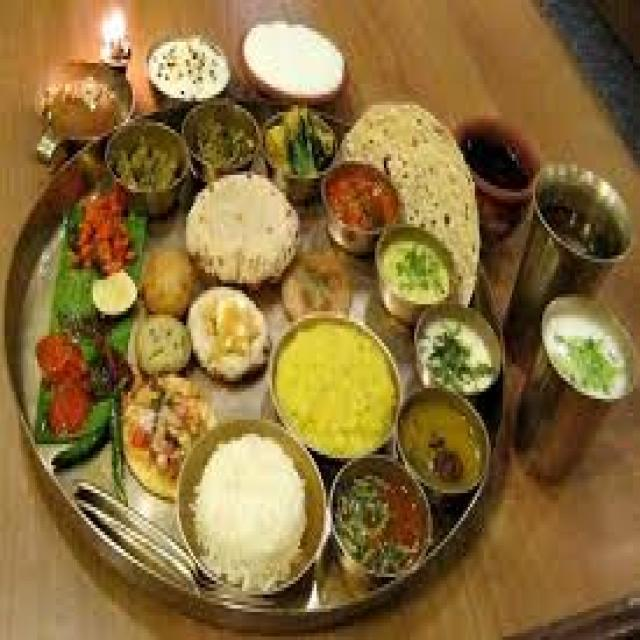curd: (533, 280, 640, 420), (243, 17, 345, 105)
dal: (277, 321, 402, 454), (395, 393, 494, 492)
papad: (189, 172, 299, 284)
pickle: (61, 187, 146, 282), (34, 355, 99, 449)
raita: (532, 278, 640, 415)
sambar-rasam: (321, 161, 403, 246)
sweet: (120, 382, 184, 486), (34, 361, 102, 446)
veg-fry: (64, 189, 147, 280)
